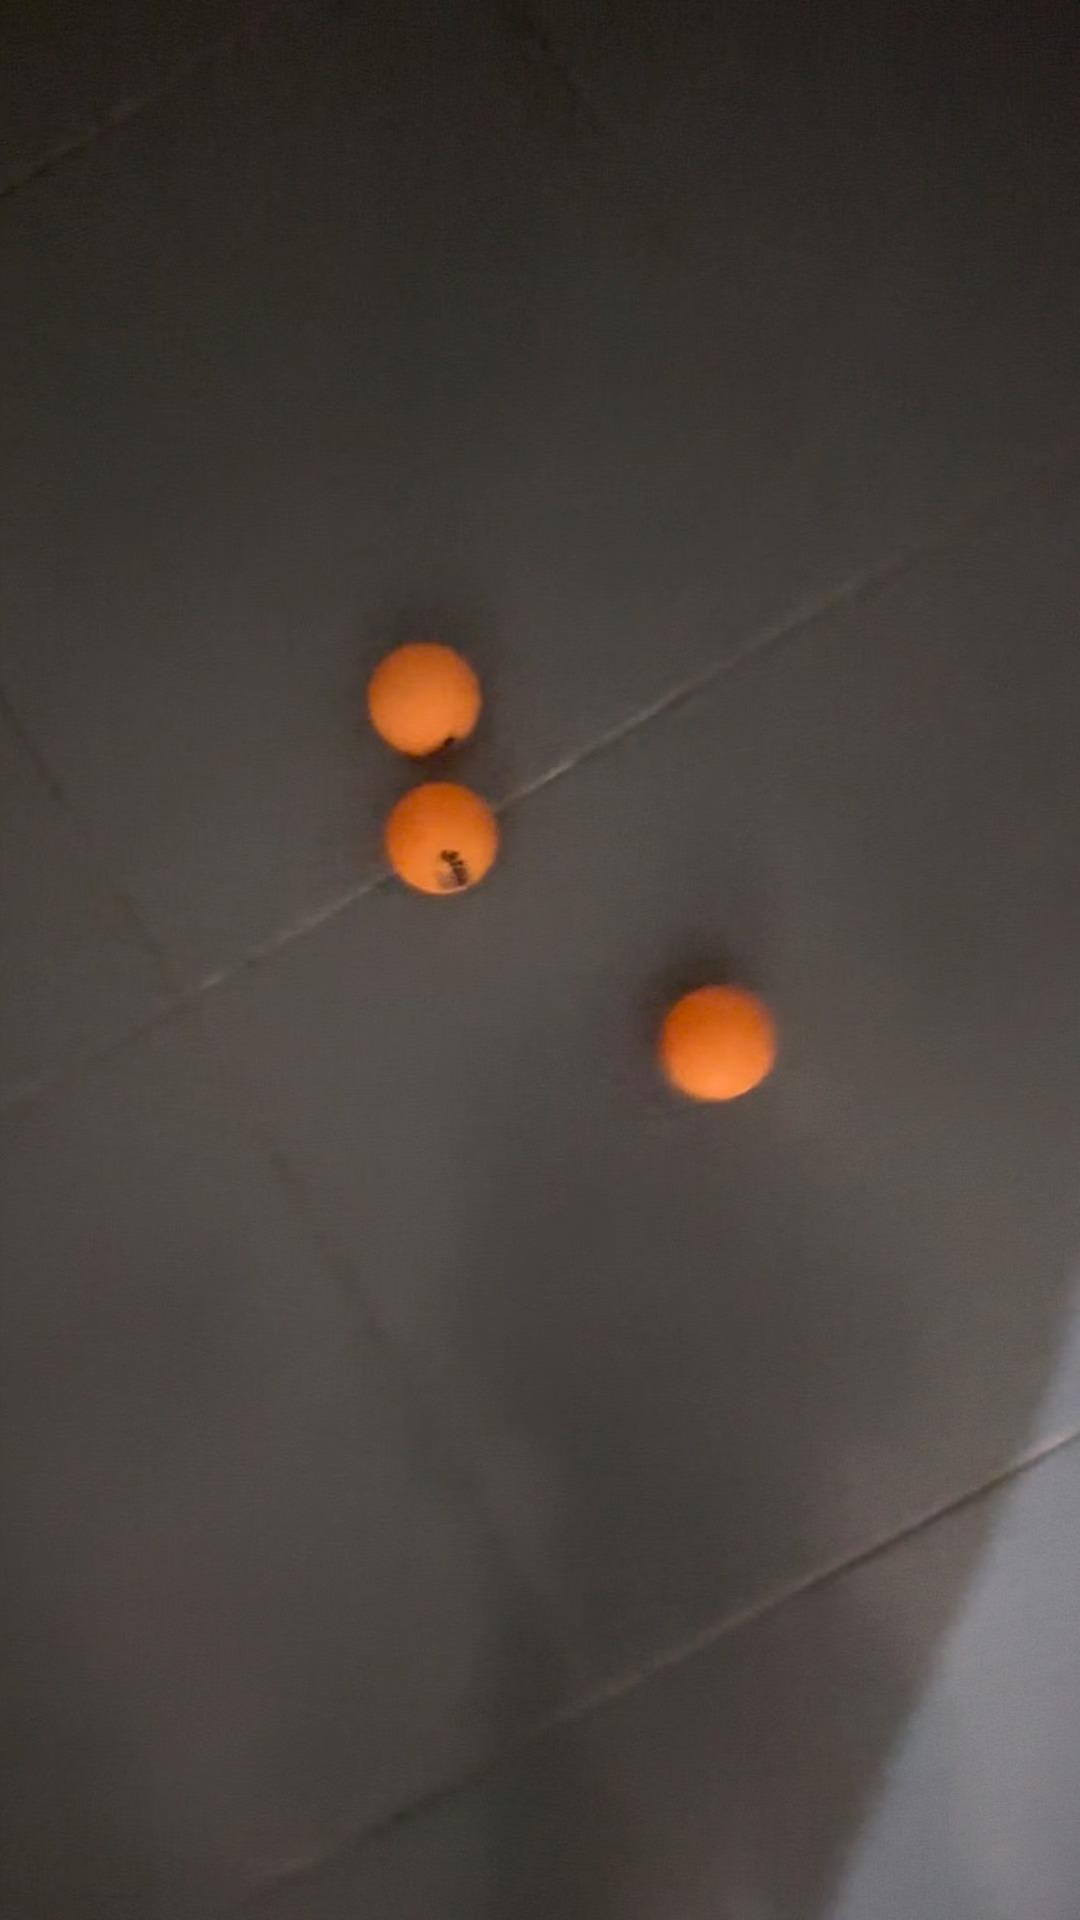oball: (388, 765, 516, 899), (357, 638, 495, 762), (646, 977, 766, 1113)
